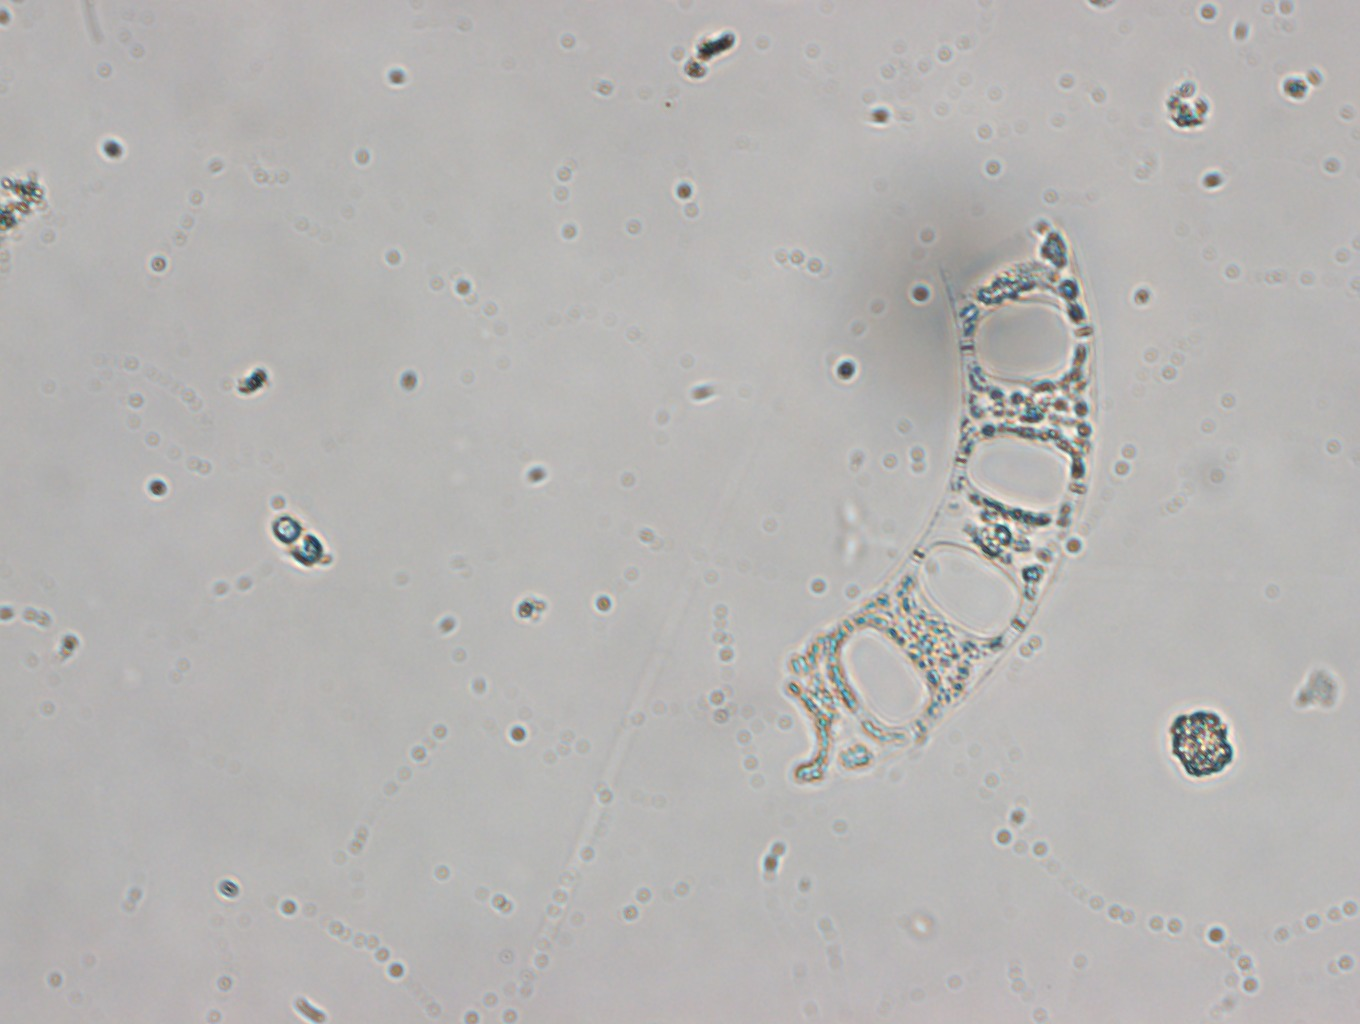eucampia: (781, 212, 1093, 787)
